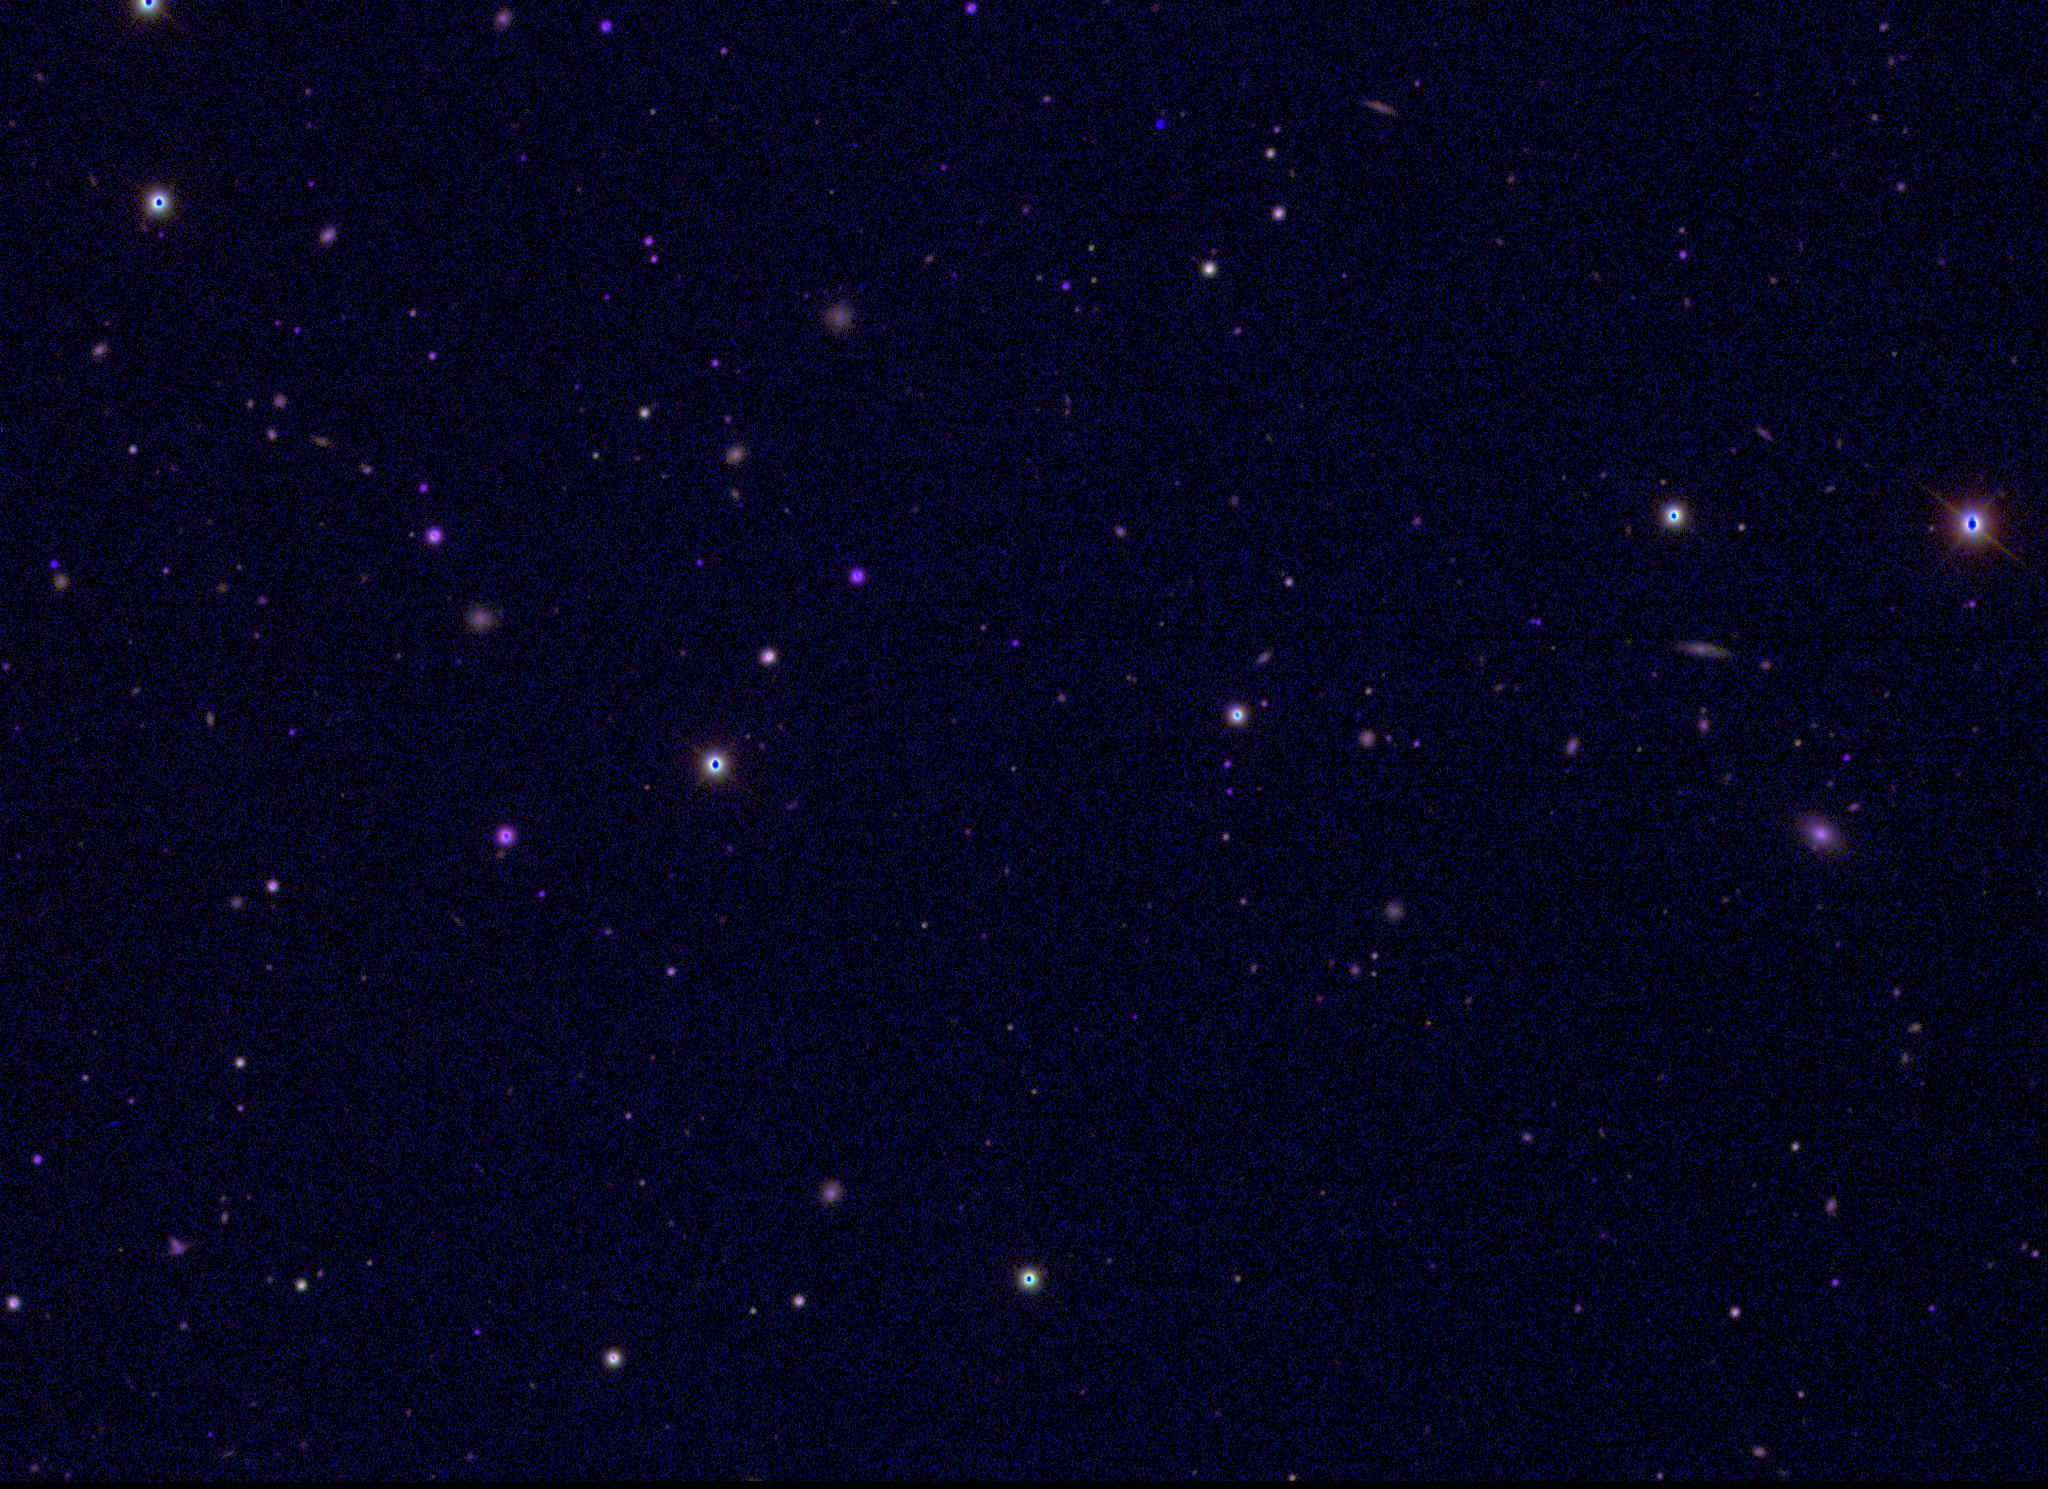L: (1153, 116, 1167, 130)
